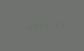eight: (23, 21, 28, 32), (29, 21, 34, 31)
nine: (41, 20, 46, 30)
one: (35, 20, 40, 31), (59, 18, 64, 29)
seven: (47, 19, 52, 30)
two: (17, 22, 22, 32), (53, 19, 58, 29)
